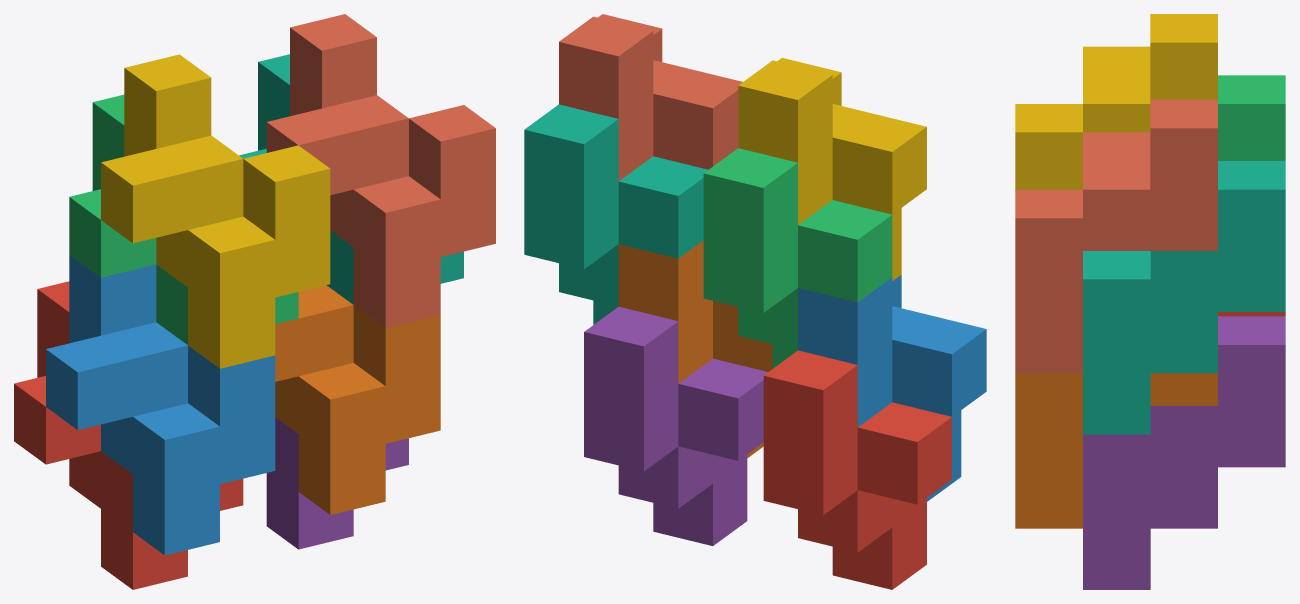
Rendered from tiling.obj.
3 renders of one model, left to right at view 1: azimuth 30°, elevation 25°; view 2: azimuth 150°, elevation 25°; view 3: azimuth 270°, elevation 25°, orthographic. The views are drawn at different scales.
Parts seen in each view (by area): view 1: copy_1_domain_4, copy_1_domain_8, copy_1_domain_2, copy_1_domain_6, copy_1_domain_1, copy_1_domain_3, copy_1_domain_5, copy_1_domain_7; view 2: copy_1_domain_1, copy_1_domain_5, copy_1_domain_3, copy_1_domain_7, copy_1_domain_4, copy_1_domain_8, copy_1_domain_2, copy_1_domain_6; view 3: copy_1_domain_7, copy_1_domain_8, copy_1_domain_5, copy_1_domain_4, copy_1_domain_6, copy_1_domain_3.
Boxes of the visible parts, left/top/right/bottom form: copy_1_domain_4: left=101, top=54, right=330, bottom=368; copy_1_domain_8: left=266, top=14, right=495, bottom=328; copy_1_domain_2: left=46, top=255, right=275, bottom=555; copy_1_domain_6: left=275, top=285, right=440, bottom=514; copy_1_domain_1: left=14, top=281, right=243, bottom=589; copy_1_domain_3: left=69, top=94, right=298, bottom=344; copy_1_domain_5: left=266, top=417, right=408, bottom=549; copy_1_domain_7: left=239, top=54, right=463, bottom=304; copy_1_domain_1: left=763, top=350, right=951, bottom=589; copy_1_domain_5: left=584, top=306, right=767, bottom=545; copy_1_domain_3: left=703, top=148, right=892, bottom=368; copy_1_domain_7: left=524, top=104, right=708, bottom=324; copy_1_domain_4: left=738, top=58, right=926, bottom=280; copy_1_domain_8: left=559, top=14, right=742, bottom=180; copy_1_domain_2: left=798, top=275, right=986, bottom=501; copy_1_domain_6: left=618, top=240, right=772, bottom=457; copy_1_domain_7: left=1083, top=161, right=1285, bottom=434; copy_1_domain_8: left=1015, top=99, right=1217, bottom=373; copy_1_domain_5: left=1083, top=316, right=1285, bottom=589; copy_1_domain_4: left=1015, top=14, right=1217, bottom=189; copy_1_domain_6: left=1015, top=373, right=1217, bottom=528; copy_1_domain_3: left=1218, top=75, right=1285, bottom=160.
Size of the model in its own units: 7 by 8 by 4.
